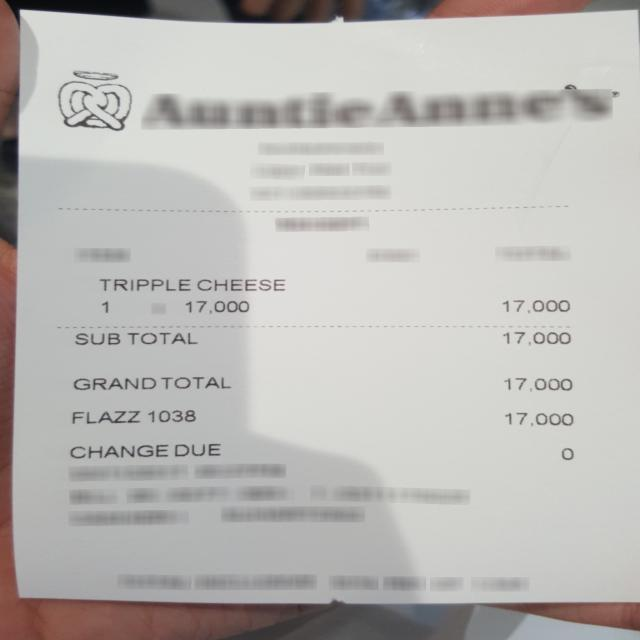kertas: (13, 10, 639, 605)
